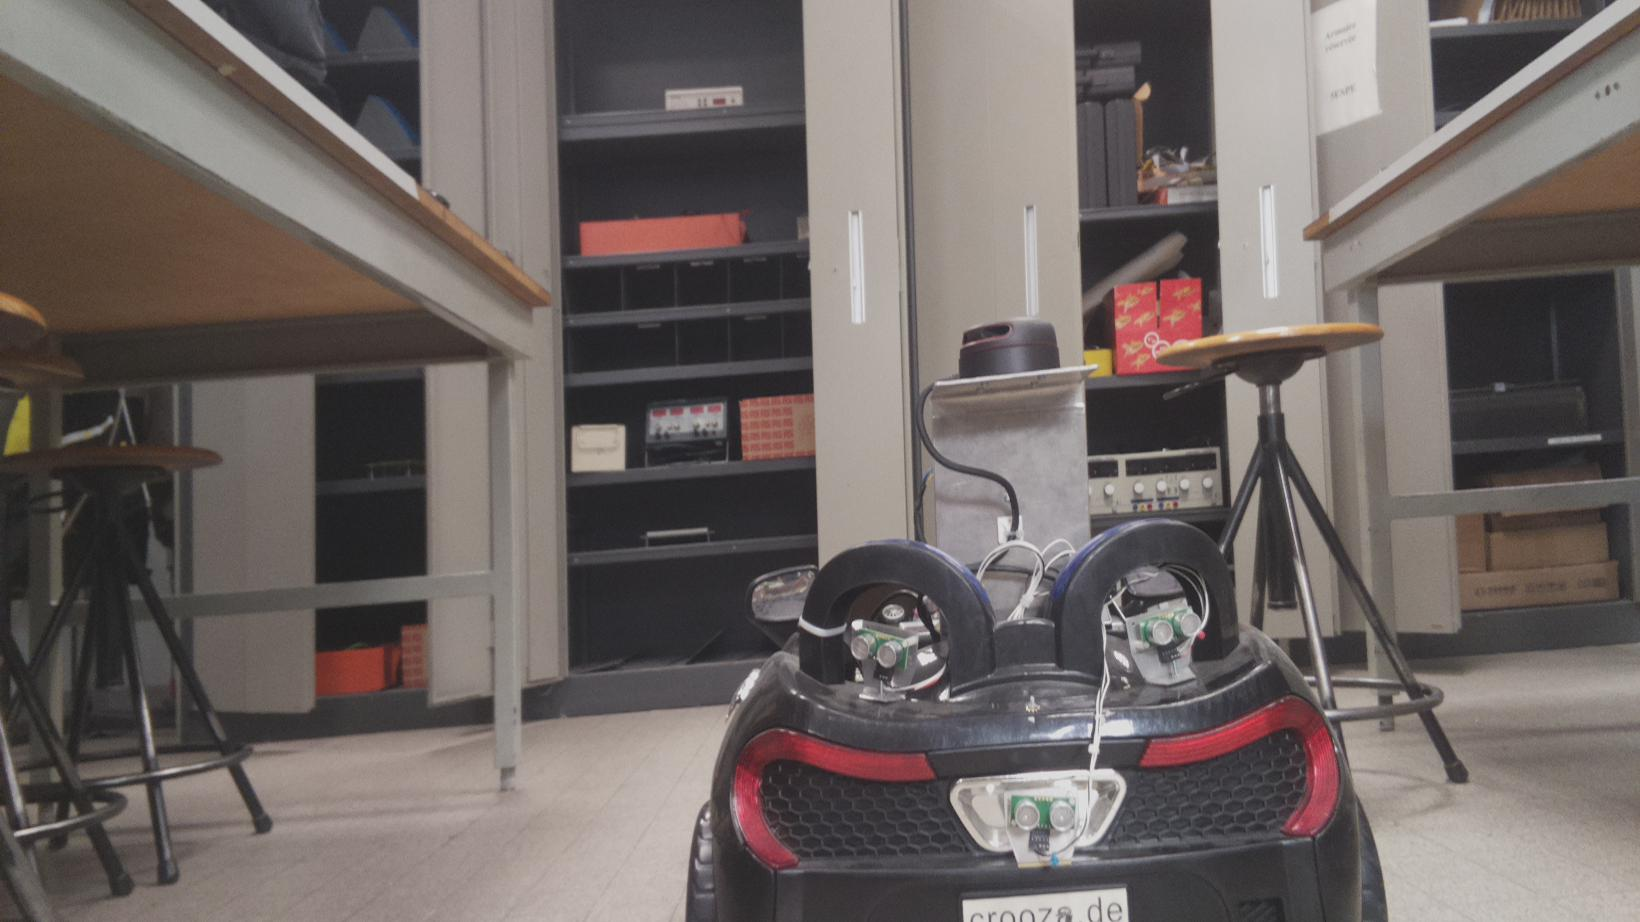big: (687, 513, 1399, 922)
